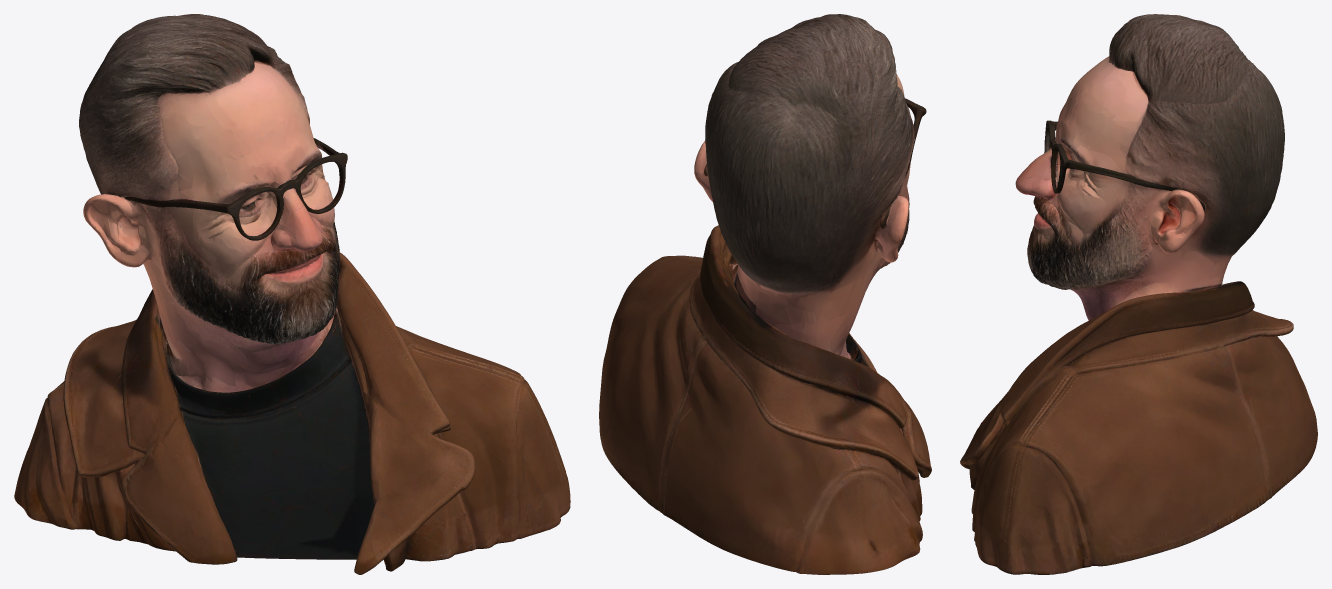
The model's file is billy-bust.glb.
3 views of the same model, side by side, from view 1: azimuth 30°, elevation 25°; view 2: azimuth 150°, elevation 25°; view 3: azimuth 270°, elevation 25° (orthographic). The views are drawn at different scales.
Bounding box in the file's own units: 1.7 × 1.9 × 1.44.
1 material, 1 textured.
